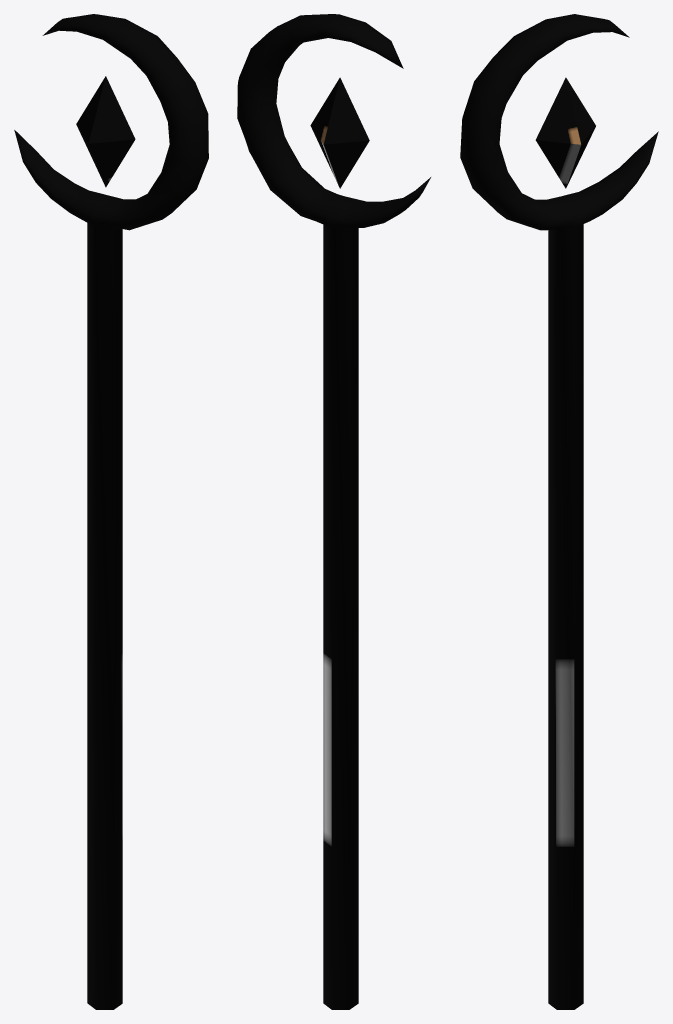
The model's file is staff.obj.
3 views of the same model, side by side, from view 1: azimuth 30°, elevation 25°; view 2: azimuth 210°, elevation 25°; view 3: azimuth 270°, elevation 25° (orthographic).
Visible parts, largest first — view 1: LowPoly_Warlock.001_Plane.000; view 2: LowPoly_Warlock.001_Plane.000; view 3: LowPoly_Warlock.001_Plane.000.
Boxes of the visible parts, x1,y1,x2,y2 form: LowPoly_Warlock.001_Plane.000: (14,14,208,1009); LowPoly_Warlock.001_Plane.000: (237,14,430,1009); LowPoly_Warlock.001_Plane.000: (460,14,658,1009).
Size of the model in its own units: 0.2191 by 1.9 by 0.3478.
